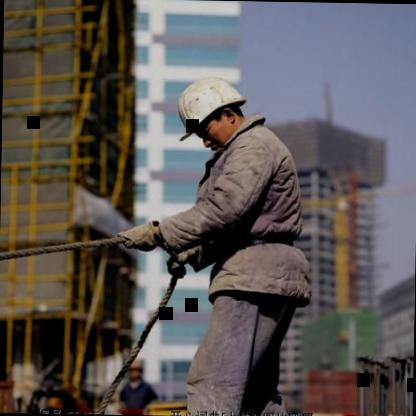helmet: (162, 68, 258, 156)
